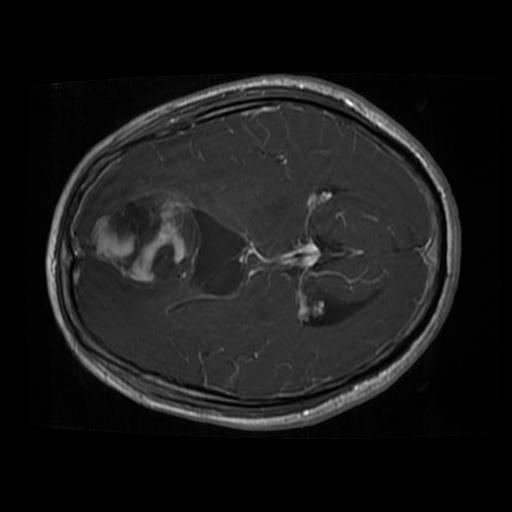glioma: (166, 207, 255, 304)
